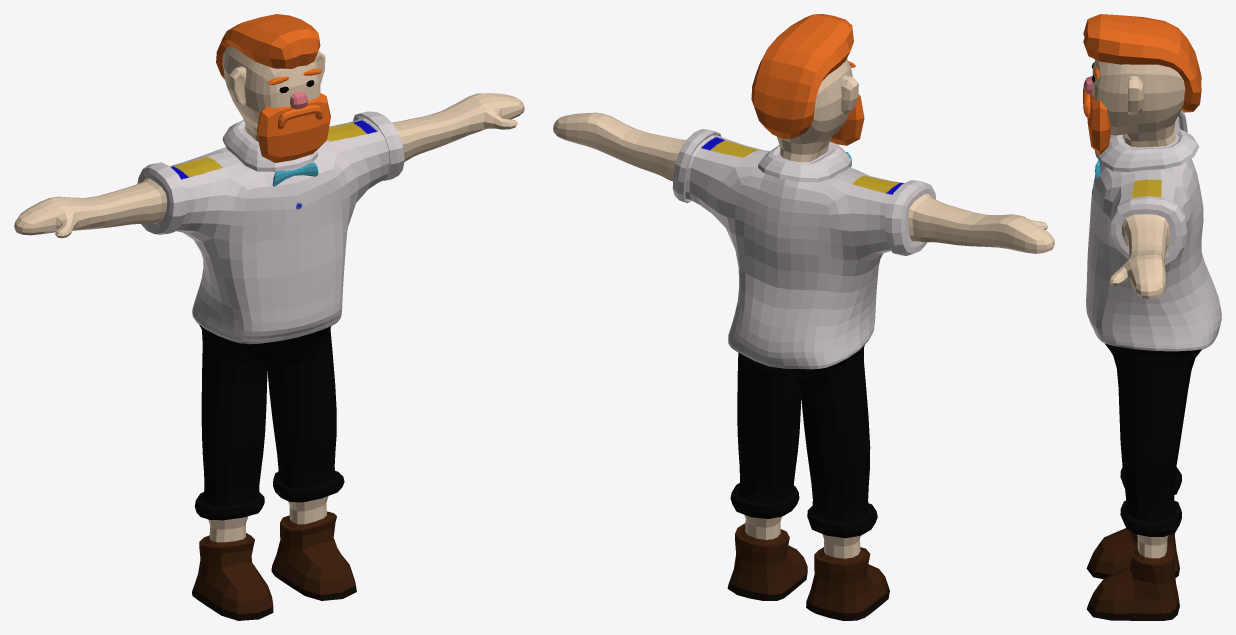
Rendered from monigote default.obj.
3 renders of one model, left to right at view 1: azimuth 30°, elevation 25°; view 2: azimuth 150°, elevation 25°; view 3: azimuth 270°, elevation 25°, orthographic.
Visible parts, largest first — view 1: Model; view 2: Model; view 3: Model.
Part boxes in pixels (bbox=[...]): Model: bbox=[14, 14, 524, 620]; Model: bbox=[553, 14, 1054, 620]; Model: bbox=[1083, 14, 1221, 620].
Size of the model in its own units: 7.2 by 7.81 by 1.72.
